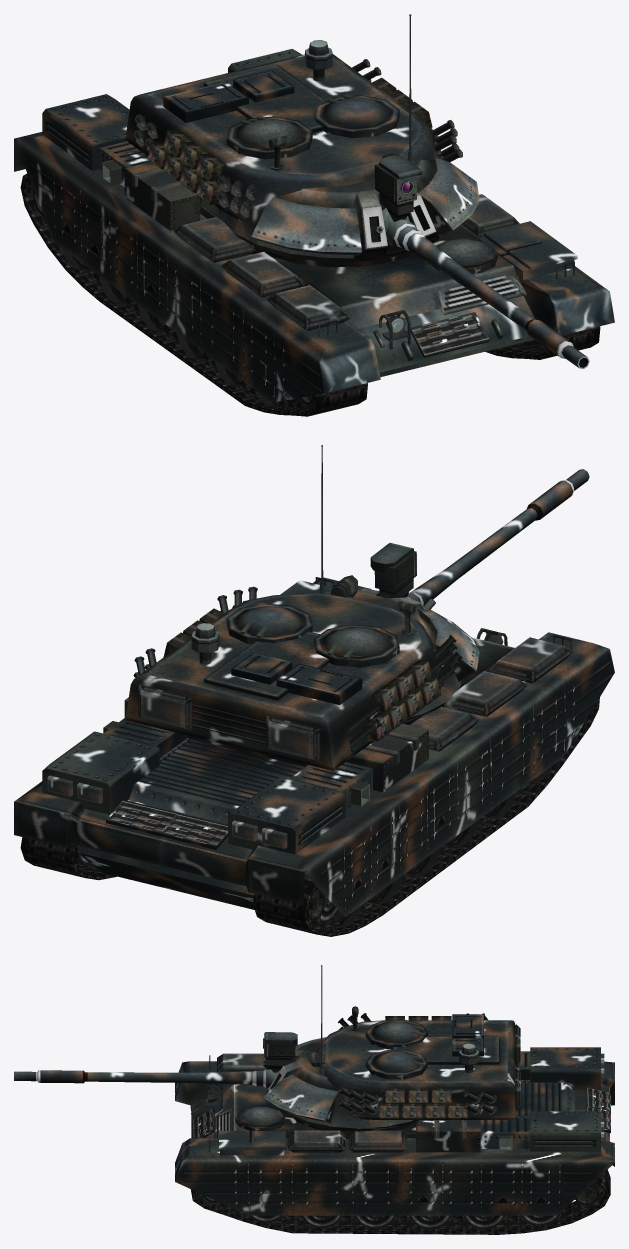
The picture shows the model from 3 angles, top to bottom: view 1: azimuth 30°, elevation 25°; view 2: azimuth 150°, elevation 25°; view 3: azimuth 270°, elevation 25°; orthographic projection. The views are drawn at different scales.
Parts seen in each view (by area): view 1: polySurface391, polySurface390, polySurface290, polySurface294, polySurface295; view 2: polySurface391, polySurface390, polySurface294, polySurface290, polySurface295; view 3: polySurface391, polySurface390, polySurface295, polySurface290, cycle11, cycle10, cycle9, cycle13, cycle8.
Boxes of the visible parts, x1,y1,x2,y2 form: polySurface391: [14, 48, 614, 402]; polySurface390: [125, 14, 479, 267]; polySurface290: [374, 155, 589, 368]; polySurface294: [20, 173, 367, 416]; polySurface295: [485, 326, 600, 359]; polySurface391: [14, 577, 614, 917]; polySurface390: [125, 445, 479, 770]; polySurface294: [253, 697, 599, 936]; polySurface290: [370, 469, 589, 606]; polySurface295: [20, 837, 116, 880]; polySurface391: [175, 1047, 614, 1215]; polySurface390: [263, 965, 520, 1138]; polySurface295: [191, 1169, 610, 1234]; polySurface290: [14, 1032, 297, 1087]; cycle11: [464, 1215, 505, 1229]; cycle10: [410, 1215, 451, 1229]; cycle9: [354, 1215, 396, 1229]; cycle13: [575, 1182, 603, 1209]; cycle8: [301, 1215, 342, 1228].
Bounding box in the file's own units: 4.47 × 4.91 × 11.33.
